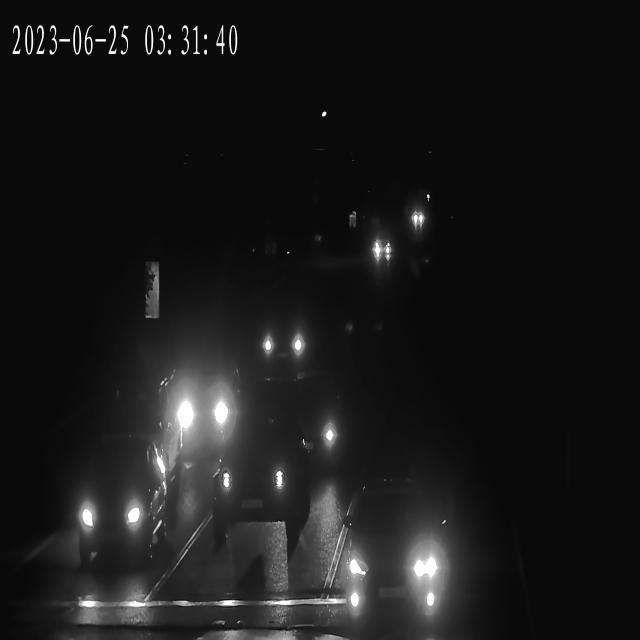Car: (340, 486, 452, 620), (62, 454, 158, 570), (252, 381, 348, 479), (211, 434, 302, 522), (157, 358, 245, 446), (254, 315, 313, 369), (365, 238, 390, 260), (370, 241, 392, 260), (406, 212, 425, 228)
